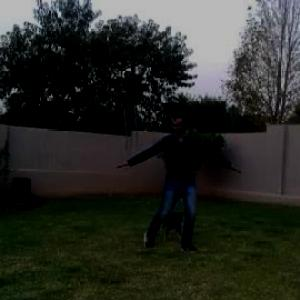land: (123, 121, 230, 246)
